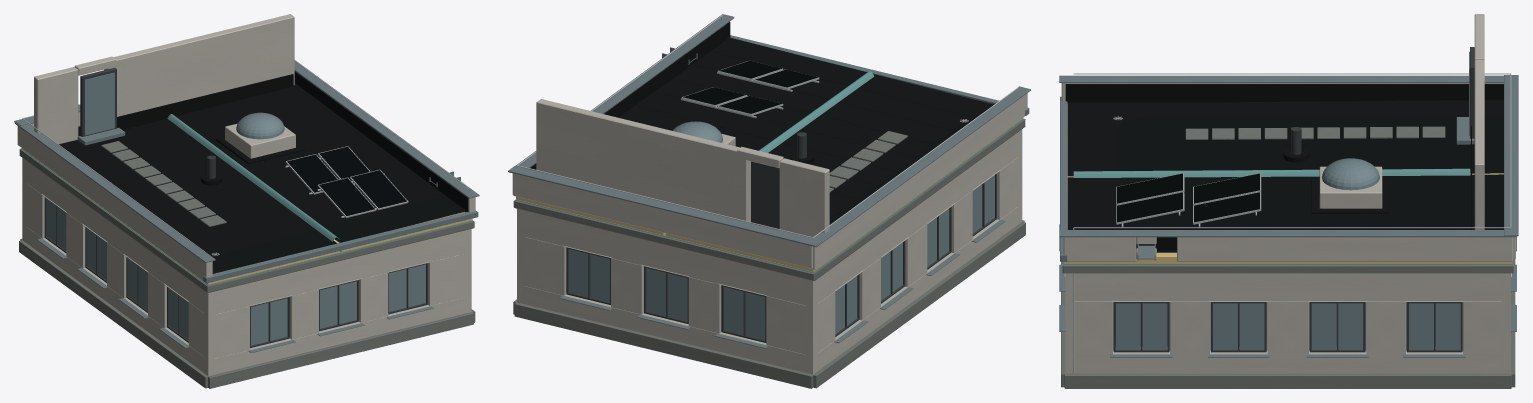
File: uebersicht.glb
The picture shows the model from 3 angles, left to right: view 1: azimuth 30°, elevation 25°; view 2: azimuth 150°, elevation 25°; view 3: azimuth 270°, elevation 25°; orthographic projection. The views are drawn at different scales.
Parts seen in each view (by area): view 1: Bauteil_f01_deckung, Bauteil_g02_tragwerk.001, Bauteil_f07_tragwerk, Bauteil_g02_tragwerk, Bauteil_g02_tragwerk.004, Bauteil_f05_deckung, Bauteil_a01_deckung.001, Bauteil_f05_tragwerk, Wandanschluss Hochführung, Bauteil_f05_deckung.001, Bauteil_f01_deckung.001, Bauteil_g02_tragwerk.003 (+14 smaller); view 2: Bauteil_g02_tragwerk.001, Bauteil_f01_deckung, Bauteil_f07_tragwerk, Bauteil_g02_tragwerk, Bauteil_f05_tragwerk, Bauteil_g02_tragwerk.004, Bauteil_f05_deckung, Bauteil_g02_tragwerk.003, Bauteil_a01_deckung.001, Bauteil_f05_deckung.001, Türrahmen Austritt, Bauteil_f01_deckung.001 (+9 smaller); view 3: Bauteil_f01_deckung, Bauteil_g02_tragwerk.001, Bauteil_g02_tragwerk, Bauteil_f05_tragwerk, Bauteil_g02_tragwerk.004, Bauteil_f05_deckung, Bauteil_f05_deckung.001, Bauteil_a01_deckung.001, Bauteil_a03_deckung, Bauteil_g02_tragwerk.003, Bauteil_f07_tragwerk, Bewegungsfuge flexible Überbrückung (+12 smaller).
Part boxes in pixels (x1,y1,x2,y2): Bauteil_f01_deckung: (59, 83, 466, 273); Bauteil_g02_tragwerk.001: (22, 158, 471, 376); Bauteil_f07_tragwerk: (34, 14, 294, 144); Bauteil_g02_tragwerk: (19, 149, 475, 388); Bauteil_g02_tragwerk.004: (46, 199, 425, 345); Bauteil_f05_deckung: (14, 60, 479, 262); Bauteil_a01_deckung.001: (287, 146, 407, 216); Bauteil_f05_tragwerk: (17, 74, 475, 280); Wandanschluss Hochführung: (117, 74, 293, 129); Bauteil_f05_deckung.001: (294, 71, 468, 211); Bauteil_f01_deckung.001: (61, 85, 450, 259); Bauteil_g02_tragwerk.003: (44, 197, 427, 348); Bauteil_g02_tragwerk.001: (517, 129, 1022, 374); Bauteil_f01_deckung: (618, 37, 993, 224); Bauteil_f07_tragwerk: (536, 99, 829, 237); Bauteil_g02_tragwerk: (513, 119, 1025, 388); Bauteil_f05_tragwerk: (512, 22, 1027, 269); Bauteil_g02_tragwerk.004: (568, 175, 994, 340); Bauteil_f05_deckung: (508, 14, 1030, 247); Bauteil_g02_tragwerk.003: (566, 173, 996, 342); Bauteil_a01_deckung.001: (683, 60, 817, 113); Bauteil_f05_deckung.001: (530, 22, 730, 169); Türrahmen Austritt: (751, 161, 779, 229); Bauteil_f01_deckung.001: (635, 50, 976, 213); Bauteil_f01_deckung: (1067, 100, 1503, 252); Bauteil_g02_tragwerk.001: (1064, 273, 1511, 373); Bauteil_g02_tragwerk: (1061, 259, 1515, 388); Bauteil_f05_tragwerk: (1061, 83, 1515, 261); Bauteil_g02_tragwerk.004: (1116, 303, 1460, 349); Bauteil_f05_deckung: (1059, 75, 1518, 237); Bauteil_f05_deckung.001: (1065, 84, 1503, 252); Bauteil_a01_deckung.001: (1117, 173, 1259, 222); Bauteil_a03_deckung: (1185, 126, 1445, 139); Bauteil_g02_tragwerk.003: (1113, 302, 1462, 352); Bauteil_f07_tragwerk: (1474, 14, 1484, 229); Bewegungsfuge flexible Überbrückung: (1073, 168, 1470, 177).
Bounding box in the file's own units: 9.86 × 6.02 × 11.34.
11 materials, 3 textured.
